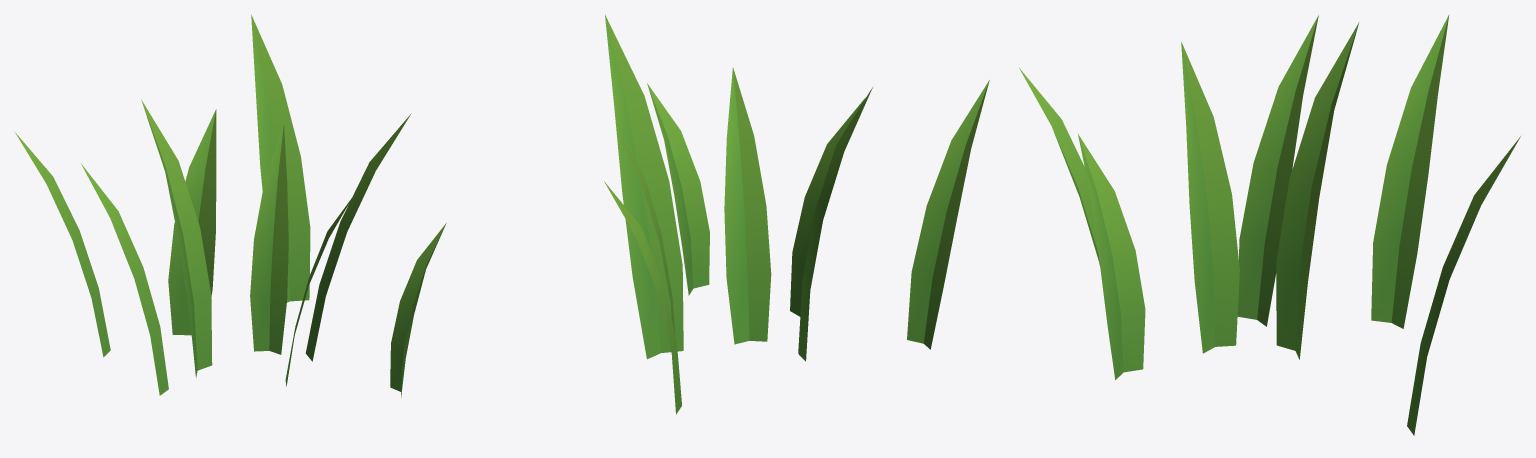
Rendered from Grass_2_D_Color1.glb.
The picture shows the model from 3 angles, left to right: view 1: azimuth 30°, elevation 25°; view 2: azimuth 150°, elevation 25°; view 3: azimuth 270°, elevation 25°; orthographic projection. The views are drawn at different scales.
Visible parts, largest first — view 1: Grass_2_D_Singlesided_Color1; view 2: Grass_2_D_Singlesided_Color1; view 3: Grass_2_D_Singlesided_Color1.
Part boxes in pixels (left/top/right/bottom): Grass_2_D_Singlesided_Color1: left=14, top=15, right=446, bottom=397; Grass_2_D_Singlesided_Color1: left=604, top=15, right=989, bottom=414; Grass_2_D_Singlesided_Color1: left=1019, top=14, right=1520, bottom=435.
Size of the model in its own units: 1.08 by 0.9336 by 1.34.
Materials: 1 (1 with a texture image).
